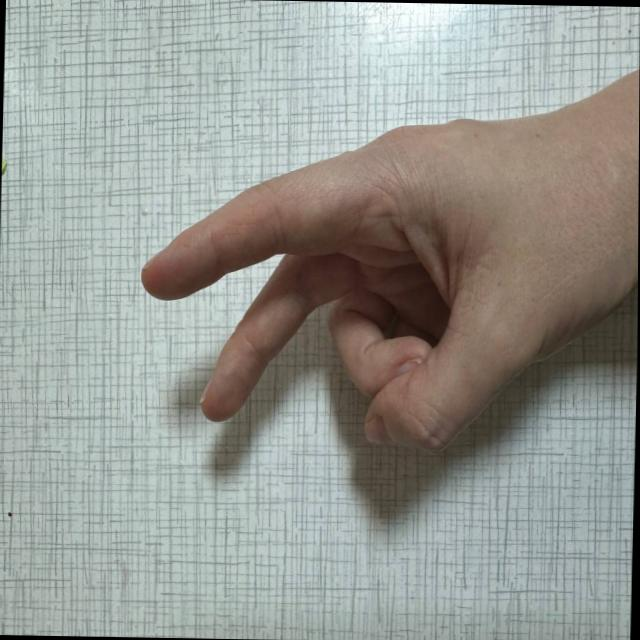k: (133, 112, 519, 466)
